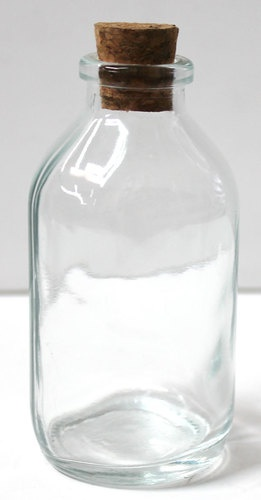emptybottle: (27, 22, 237, 489)
